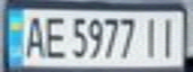5: (66, 13, 87, 60)
7: (118, 15, 139, 60), (103, 15, 121, 60)
9: (84, 13, 106, 60)
A: (21, 12, 48, 60)
E: (42, 12, 69, 60)
I: (139, 13, 163, 60), (157, 14, 181, 58)
